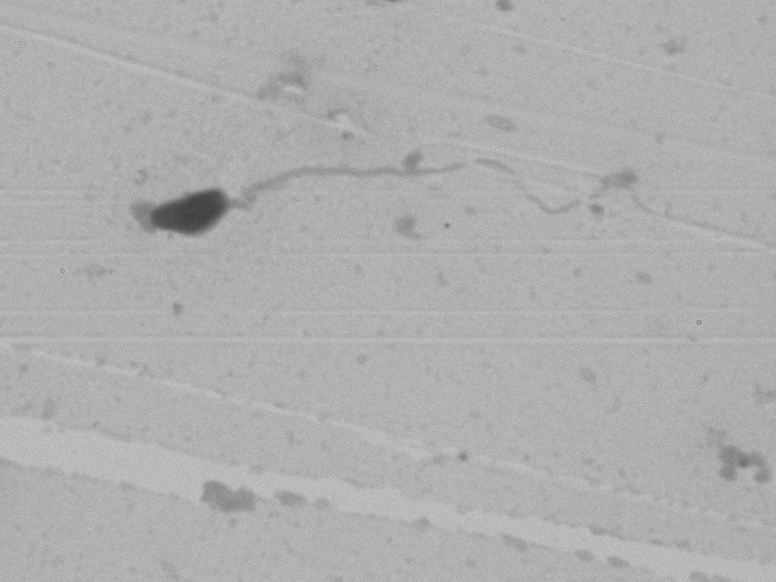Abnormal: (99, 121, 616, 278)
